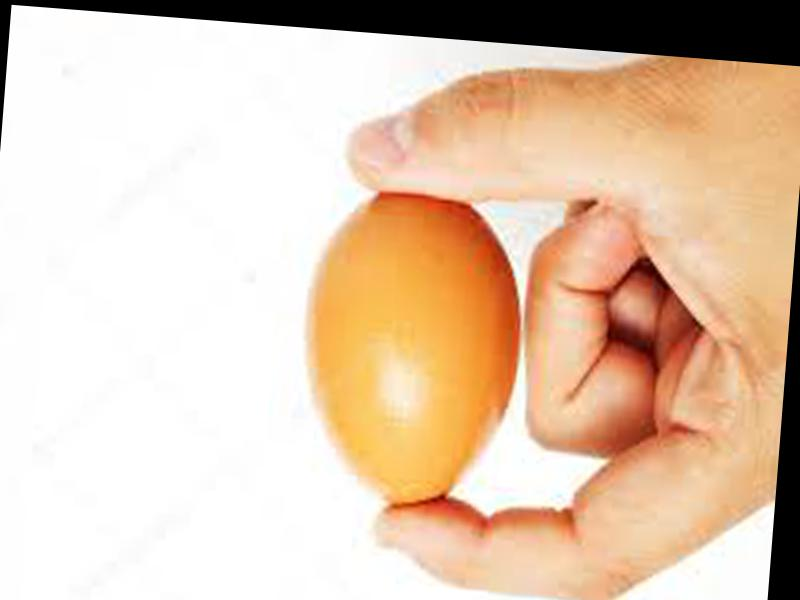Eggs: (290, 185, 532, 519)
